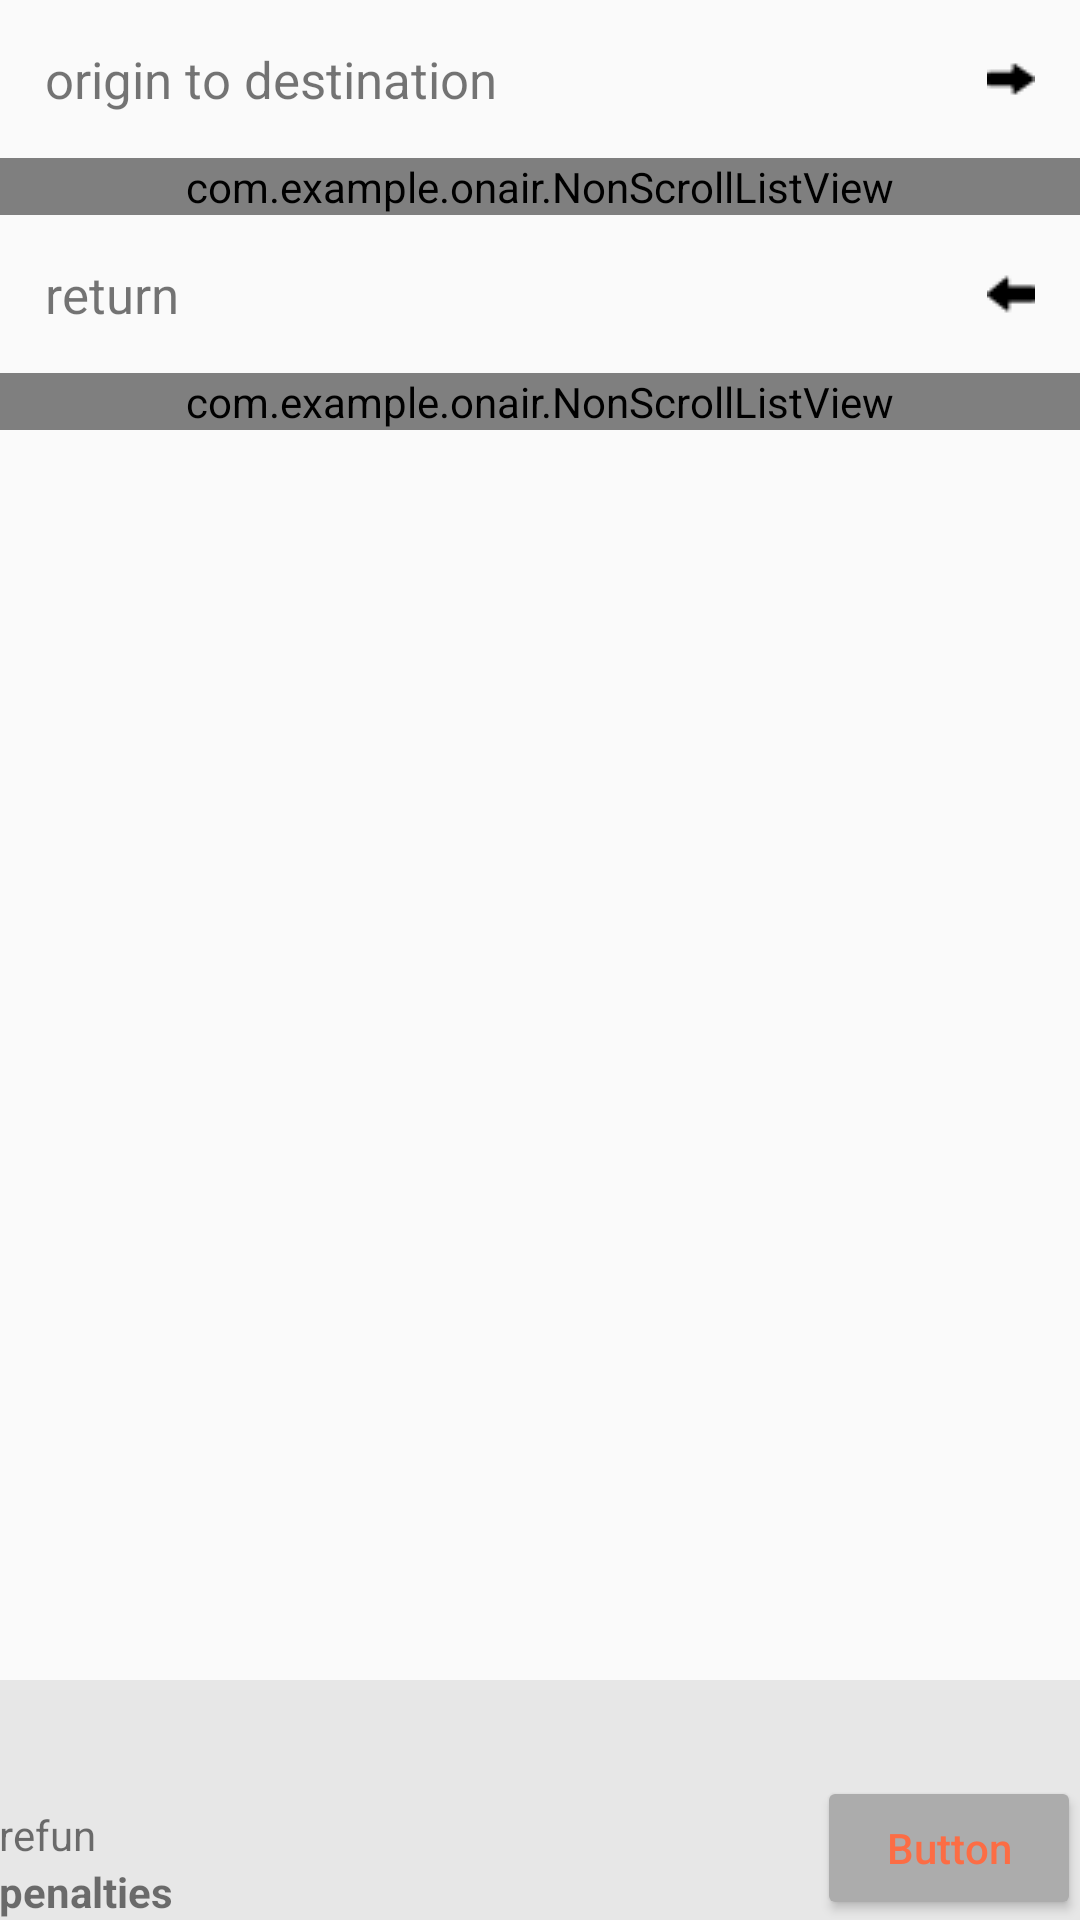

Screen size 1080px×1920px. Icon name, then its box in pixels as (x1, y1, x2, y2):
left pointing arrow: (987, 275, 1035, 313)
right pointing arrow: (987, 63, 1035, 95)
